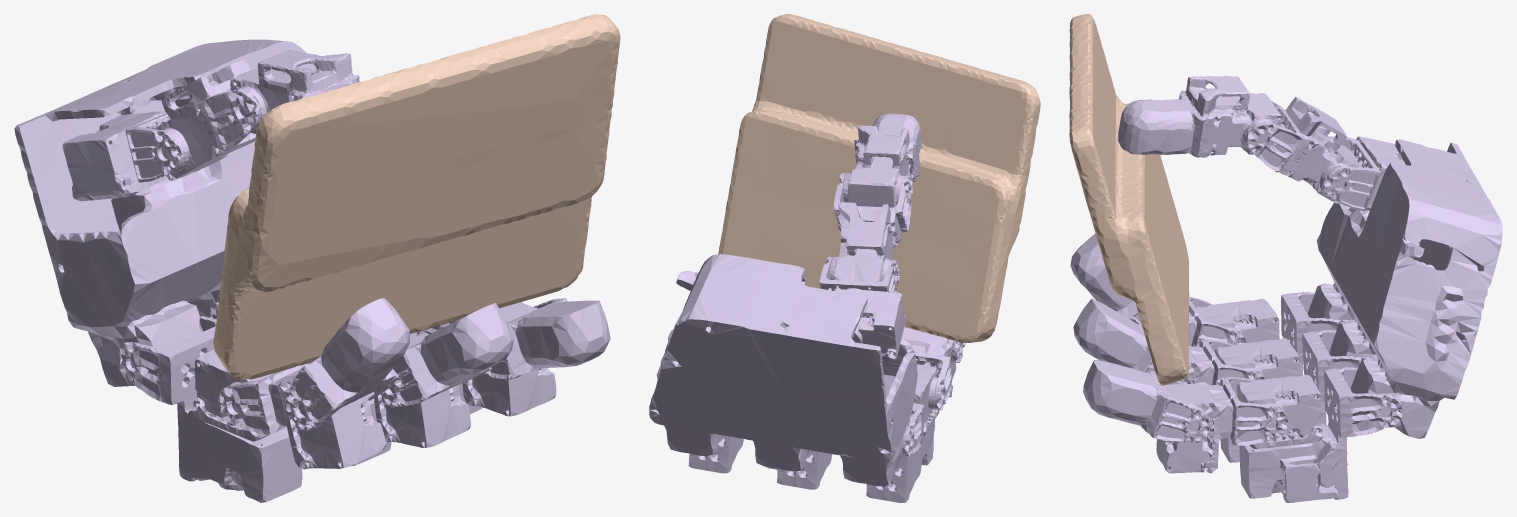
File: 92623efb7f22a1-closed.glb
3 views of the same model, side by side, from view 1: azimuth 30°, elevation 25°; view 2: azimuth 150°, elevation 25°; view 3: azimuth 270°, elevation 25° (orthographic). The views are drawn at different scales.
Parts seen in each view (by area): view 1: LEAP_hand, world; view 2: LEAP_hand, world; view 3: LEAP_hand, world.
Part boxes in pixels (x1,y1,x2,y2): LEAP_hand: [14, 39, 610, 502]; world: [213, 14, 620, 379]; LEAP_hand: [649, 113, 965, 502]; world: [718, 14, 1040, 342]; LEAP_hand: [1070, 76, 1502, 502]; world: [1069, 14, 1189, 385].
Bounding box in the file's own units: 0.1637 × 0.1966 × 0.1965.
